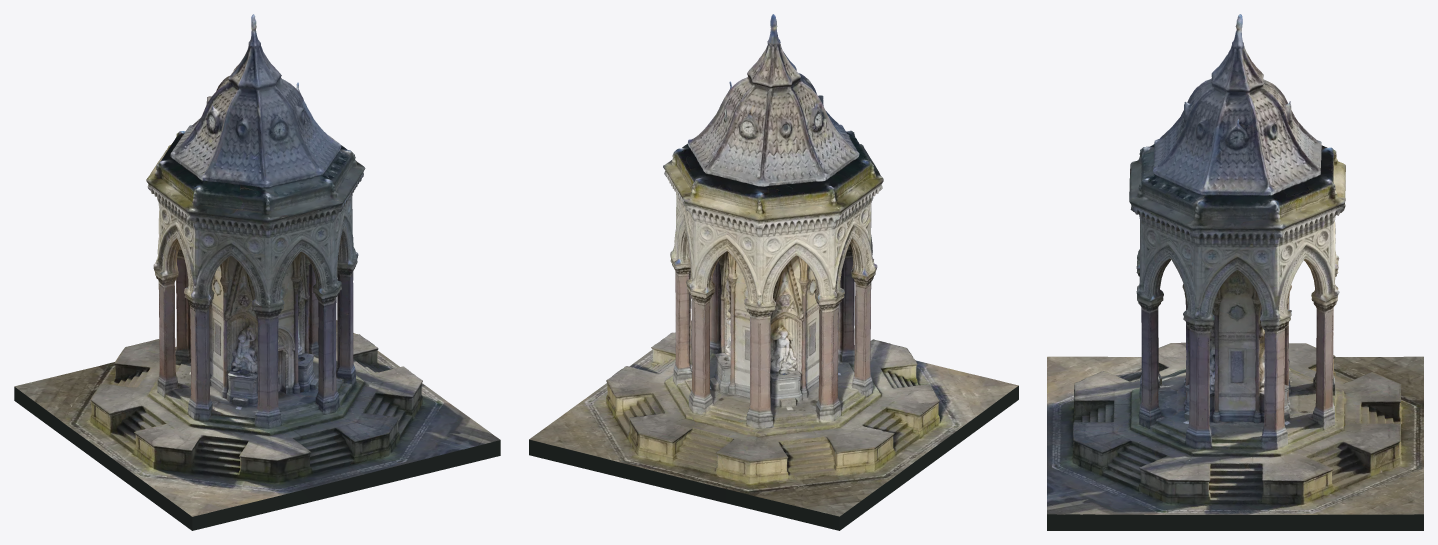
Rendered from fountain.glb.
The picture shows the model from 3 angles, left to right: view 1: azimuth 30°, elevation 25°; view 2: azimuth 150°, elevation 25°; view 3: azimuth 270°, elevation 25°; orthographic projection. The views are drawn at different scales.
Parts seen in each view (by area): view 1: Object_2; view 2: Object_2; view 3: Object_2.
Boxes of the visible parts, x1,y1,x2,y2 form: Object_2: (14,14,500,530); Object_2: (529,14,1018,530); Object_2: (1047,14,1423,530).
Bounding box in the file's own units: 114 × 146 × 114.
1 material, 1 textured.
